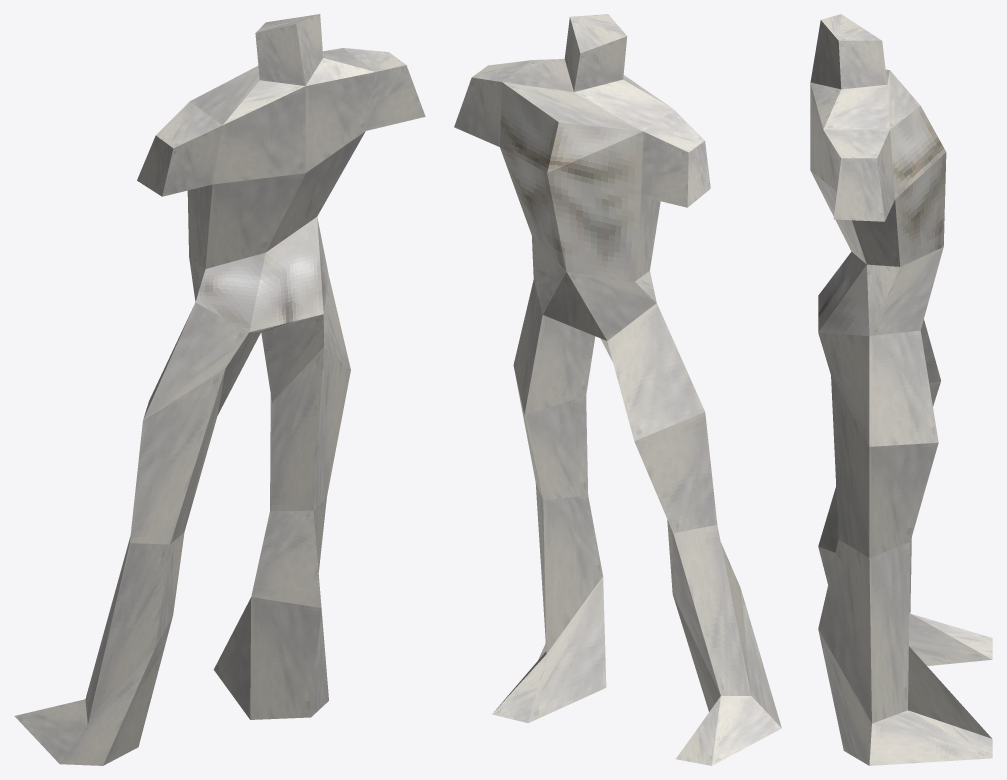
3 renders of one model, left to right at view 1: azimuth 30°, elevation 25°; view 2: azimuth 150°, elevation 25°; view 3: azimuth 270°, elevation 25°, orthographic. The views are drawn at different scales.
Visible parts, largest first — view 1: prim192-statue02; view 2: prim192-statue02; view 3: prim192-statue02.
Part boxes in pixels (bbox=[...]): prim192-statue02: bbox=[14, 14, 425, 765]; prim192-statue02: bbox=[454, 14, 781, 765]; prim192-statue02: bbox=[810, 14, 992, 765].
Size of the model in its own units: 159 by 309 by 71.
2 materials, 2 textured.
